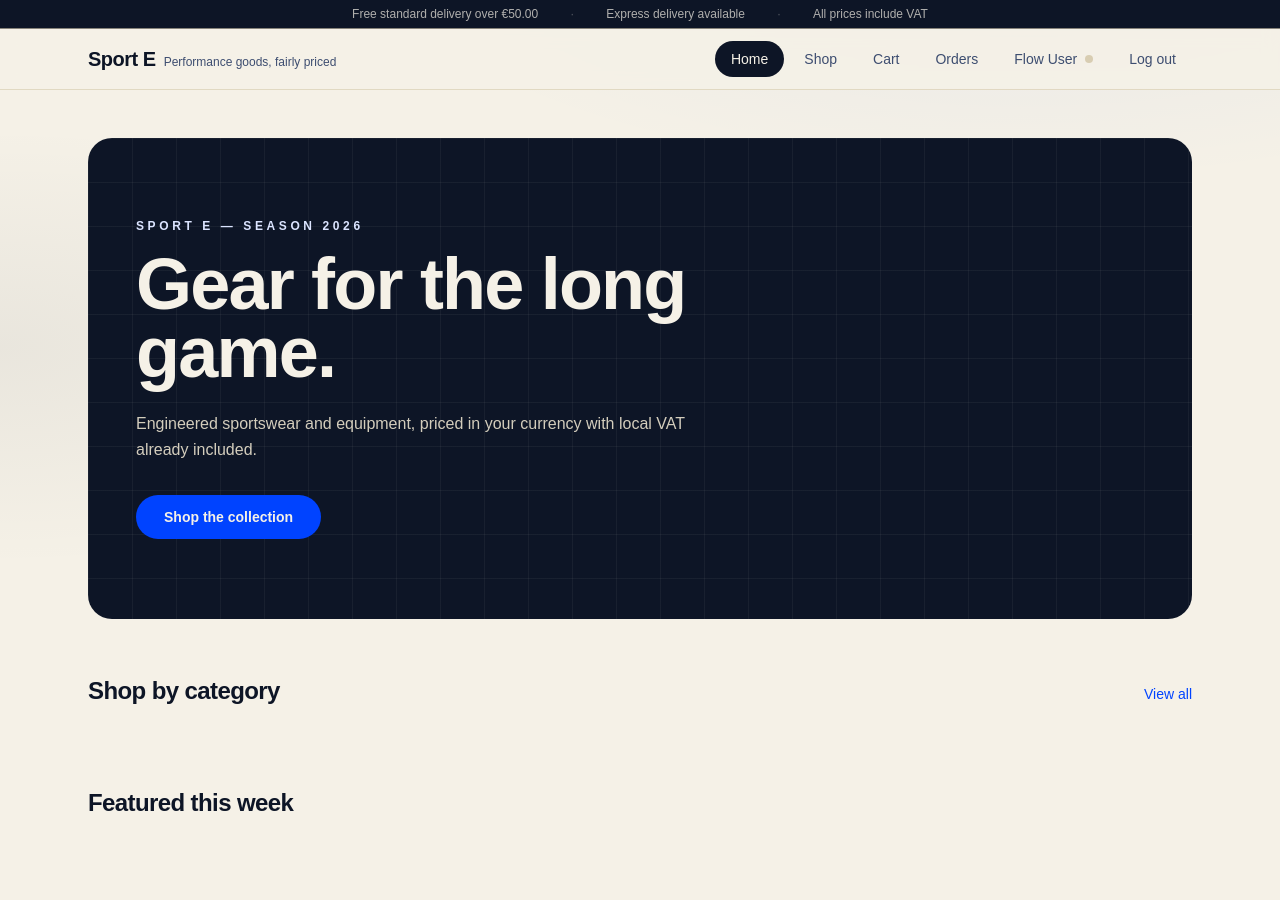
Test: identity pages › logs out and refreshes the context to the anonymous state
Click the button "Log out" at (1153, 59), box top-left (1113, 41), bottom-right (1192, 77)
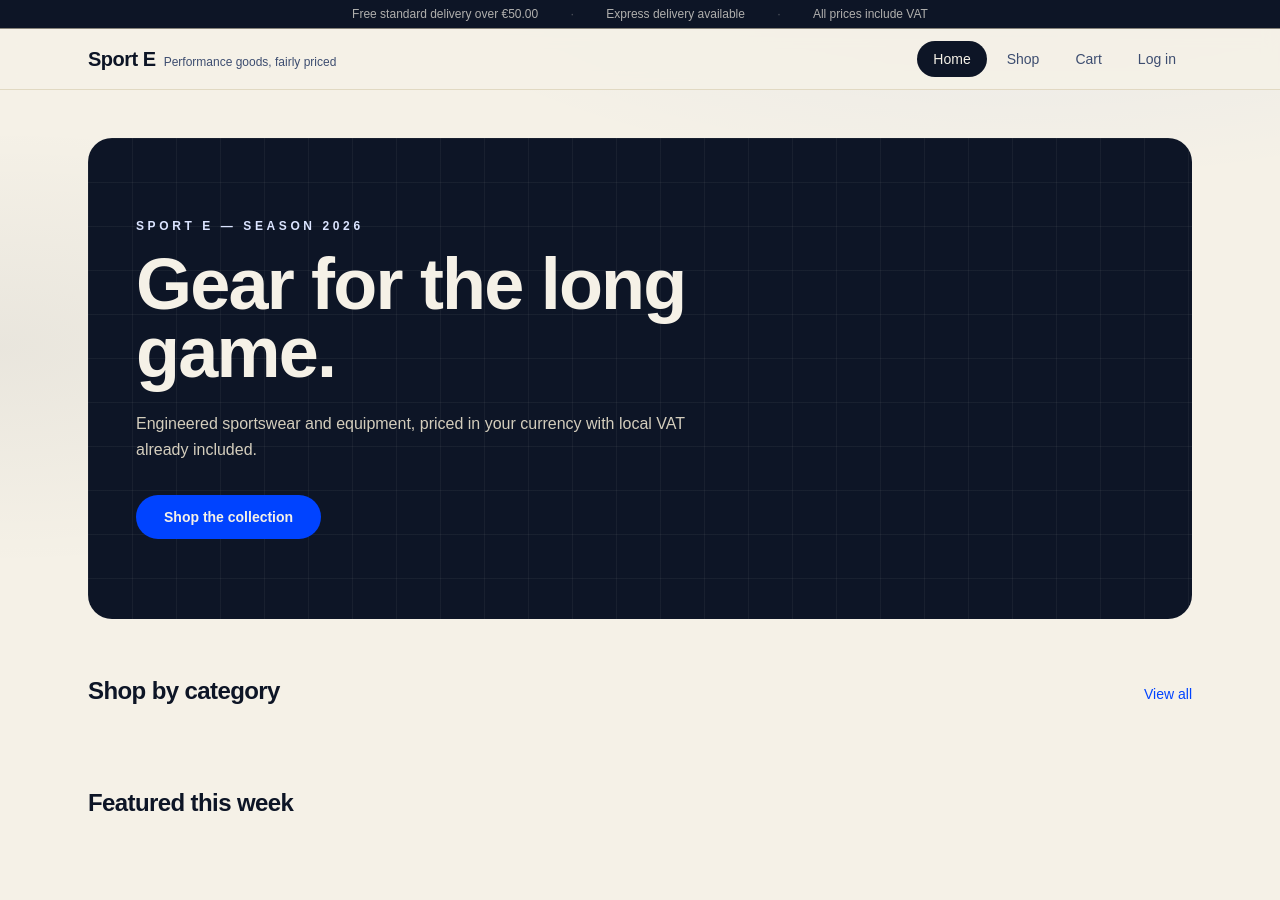
Now the link "Log in" is shown, box top-left (1138, 51), bottom-right (1176, 67)
Now the button "Log out" is gone
